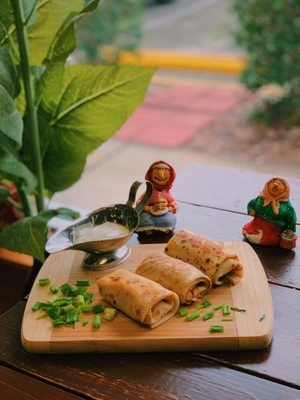soup: (94, 269, 180, 329), (134, 254, 212, 317)
